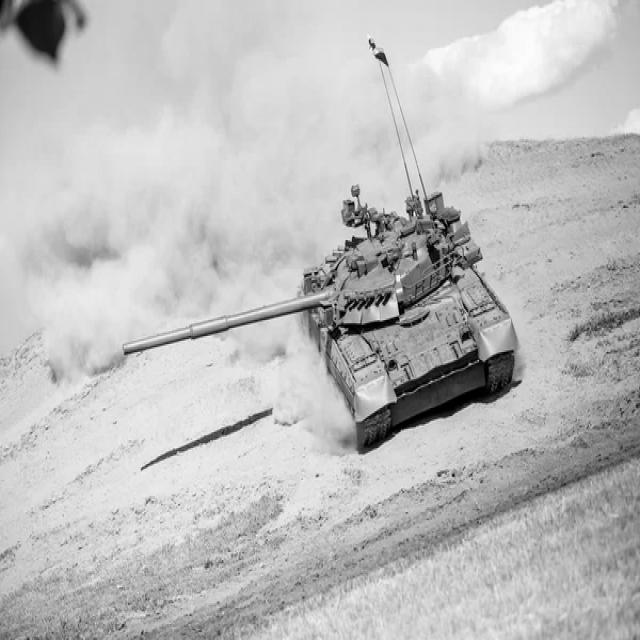Tank: (122, 185, 522, 453)
